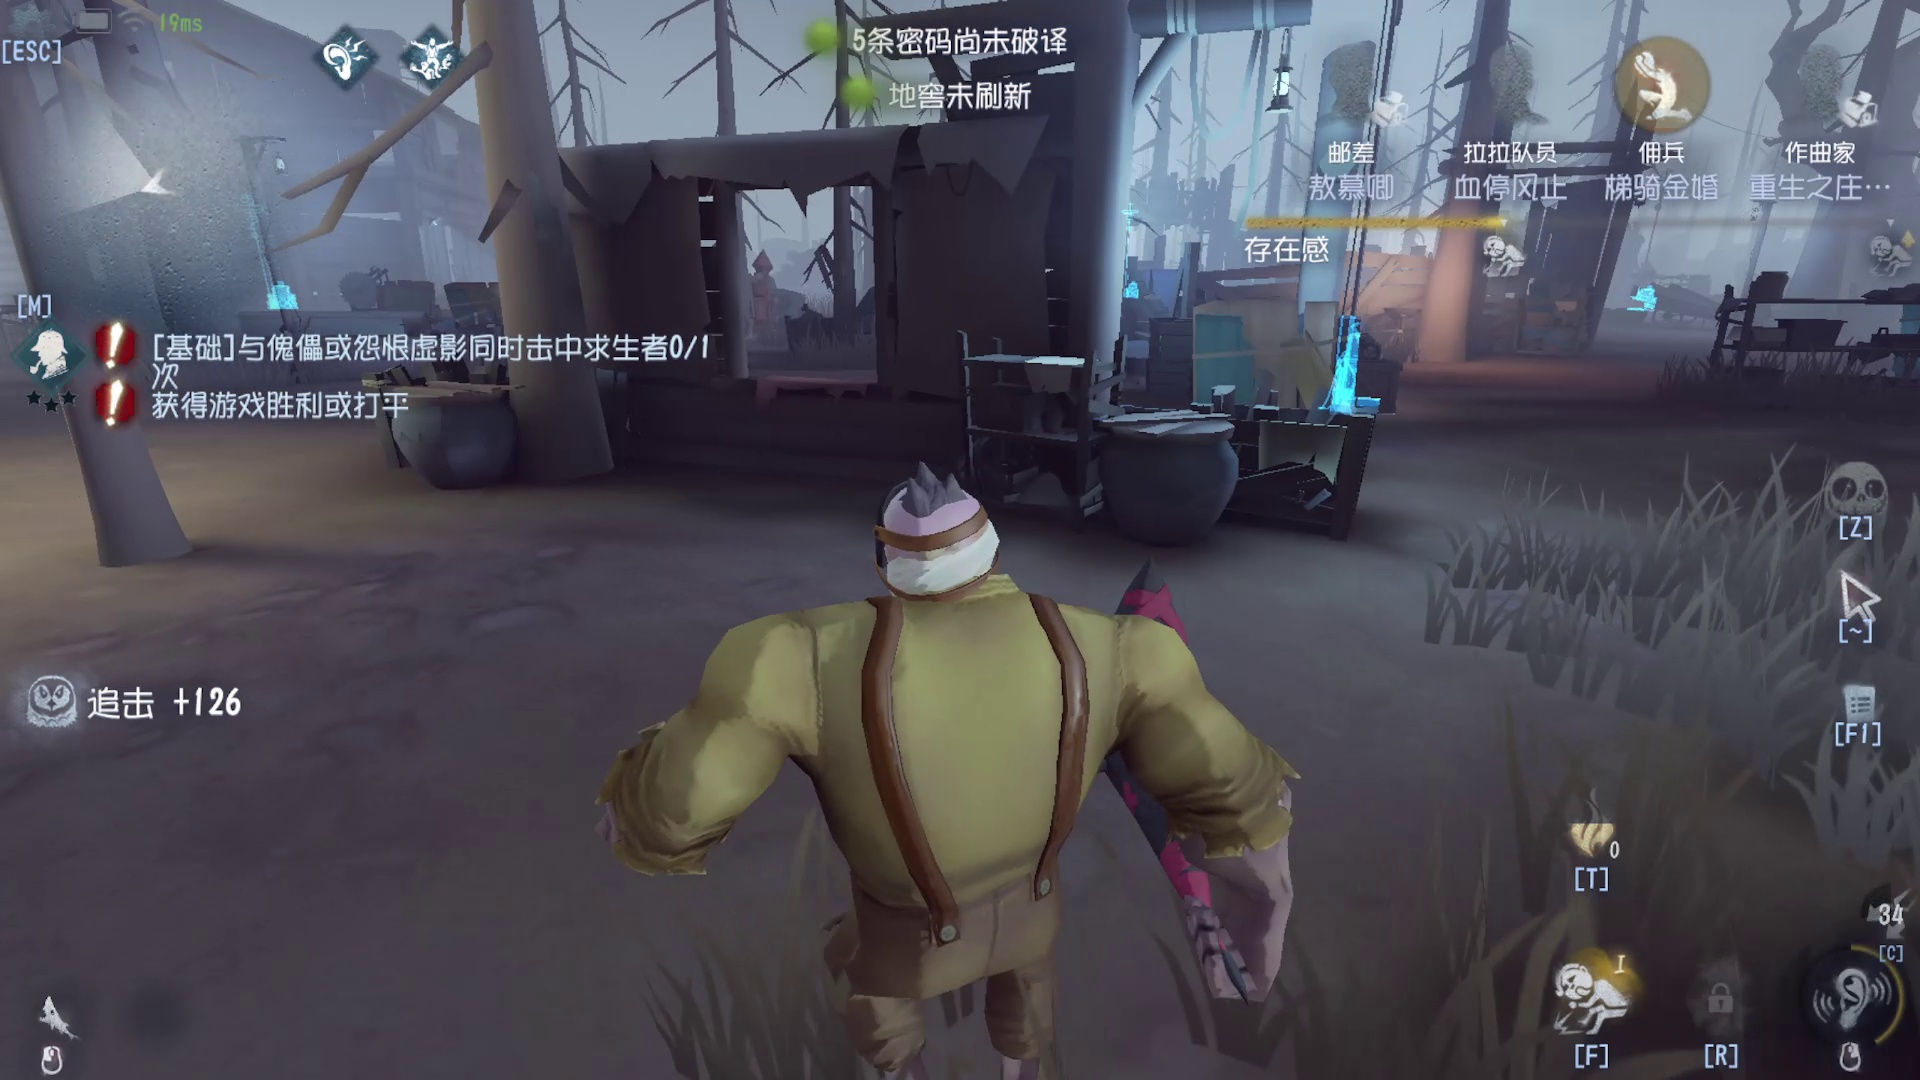密码机: (1323, 26, 1415, 447), (218, 123, 327, 338), (1617, 173, 1695, 352)
木板: (1179, 285, 1340, 444)
